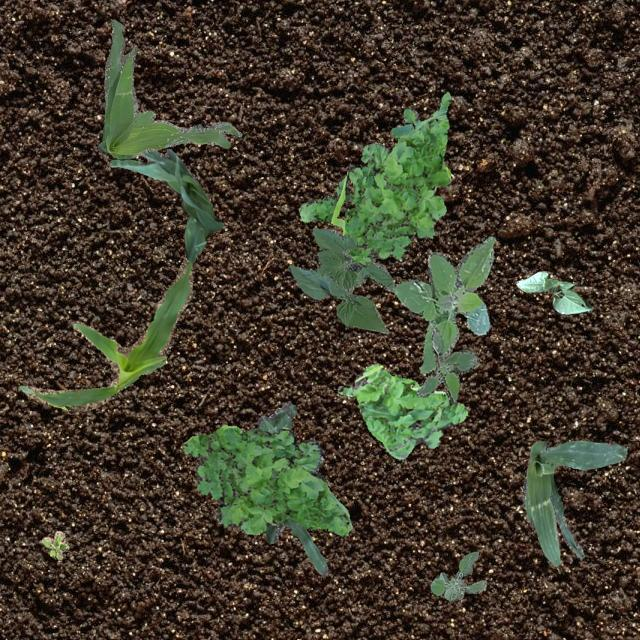crop: (18, 252, 192, 411), (96, 140, 222, 262), (522, 440, 626, 566), (258, 400, 326, 574), (286, 226, 394, 332), (514, 270, 592, 314)
weed: (298, 90, 450, 264), (102, 19, 240, 158), (182, 424, 352, 534), (392, 235, 494, 372), (336, 362, 466, 458), (416, 327, 478, 402), (430, 550, 486, 600), (41, 530, 68, 558)
